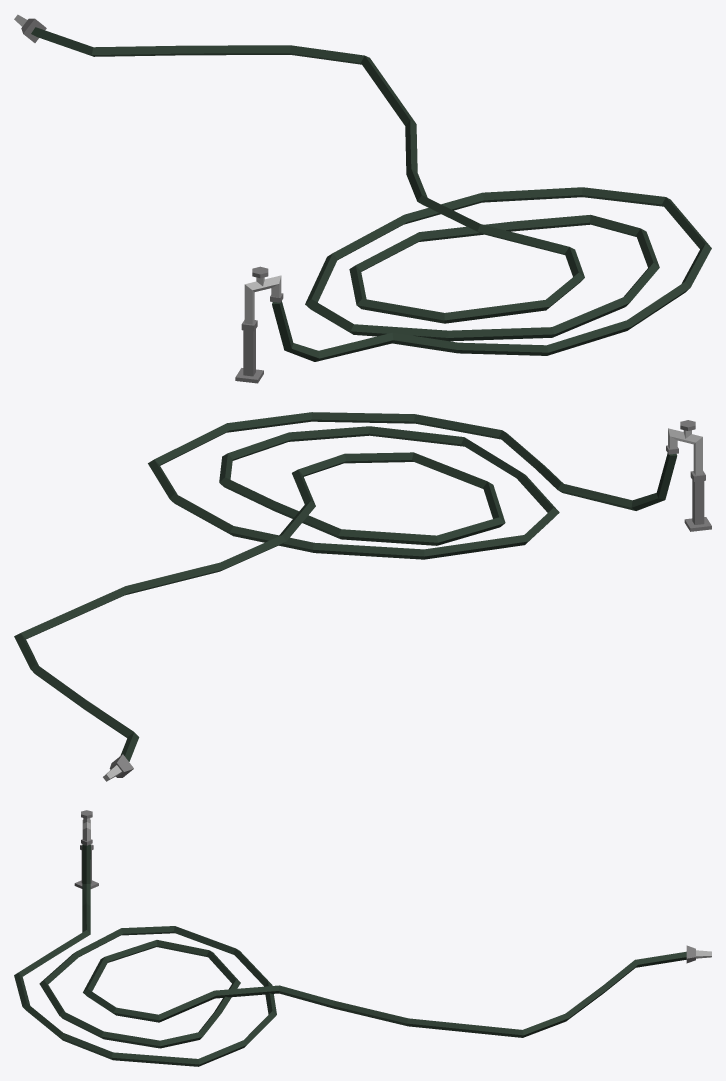
The model's file is SM_hose_01.gltf.
The picture shows the model from 3 angles, top to bottom: view 1: azimuth 30°, elevation 25°; view 2: azimuth 150°, elevation 25°; view 3: azimuth 270°, elevation 25°; orthographic projection. The views are drawn at different scales.
Visible parts, largest first — view 1: SM_hose_01; view 2: SM_hose_01; view 3: SM_hose_01.
Boxes of the visible parts, x1=… form: SM_hose_01: x1=14, y1=14, x2=711, y2=383; SM_hose_01: x1=14, y1=412, x2=711, y2=781; SM_hose_01: x1=14, y1=810, x2=711, y2=1066.
Bounding box in the file's own units: 5.16 × 1.11 × 8.28.
1 material, 1 textured.
